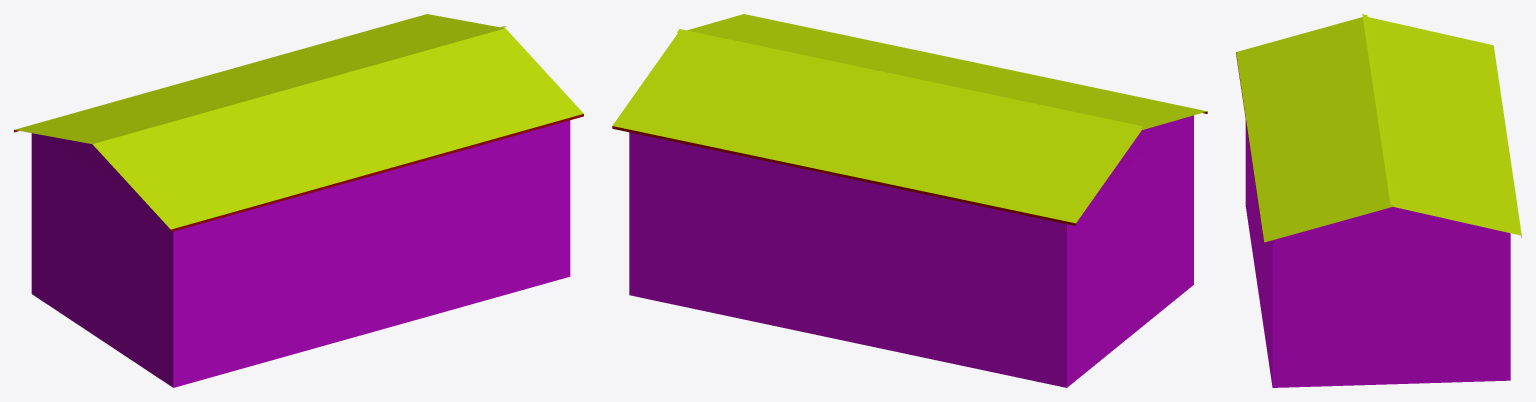
File: ces_2.glb
The picture shows the model from 3 angles, left to right: view 1: azimuth 30°, elevation 25°; view 2: azimuth 150°, elevation 25°; view 3: azimuth 270°, elevation 25°; orthographic projection. The views are drawn at different scales.
Visible parts, largest first — view 1: ces_2; view 2: ces_2; view 3: ces_2.
Part boxes in pixels (box(x1,y1,x2,y2)): ces_2: box(14, 14, 583, 387); ces_2: box(612, 14, 1207, 387); ces_2: box(1236, 14, 1521, 387).
Size of the model in its own units: 21.04 by 9.16 by 12.88.
